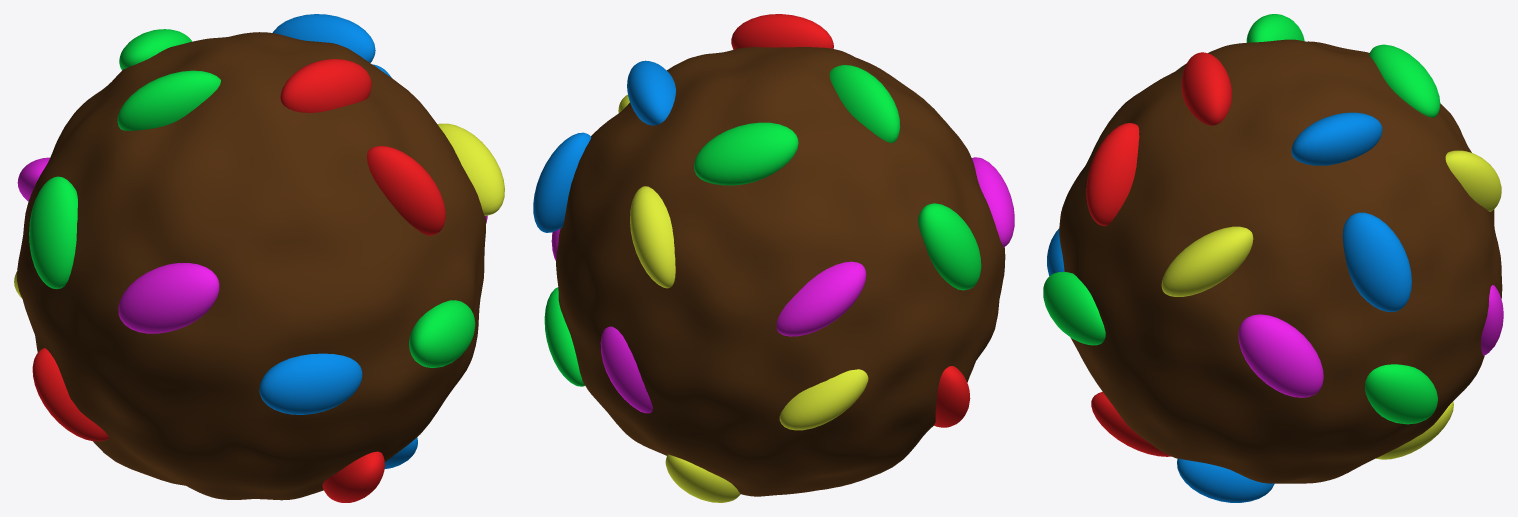
The model's file is cikolata.fbx.
The picture shows the model from 3 angles, left to right: view 1: azimuth 30°, elevation 25°; view 2: azimuth 150°, elevation 25°; view 3: azimuth 270°, elevation 25°; orthographic projection. The views are drawn at different scales.
Visible parts, largest first — view 1: cikolata; view 2: cikolata; view 3: cikolata.
Boxes of the visible parts, x1=… form: cikolata: x1=14, y1=14, x2=504, y2=502; cikolata: x1=533, y1=14, x2=1014, y2=502; cikolata: x1=1043, y1=14, x2=1503, y2=502.
Size of the model in its own units: 76.45 by 73.8 by 73.11.
